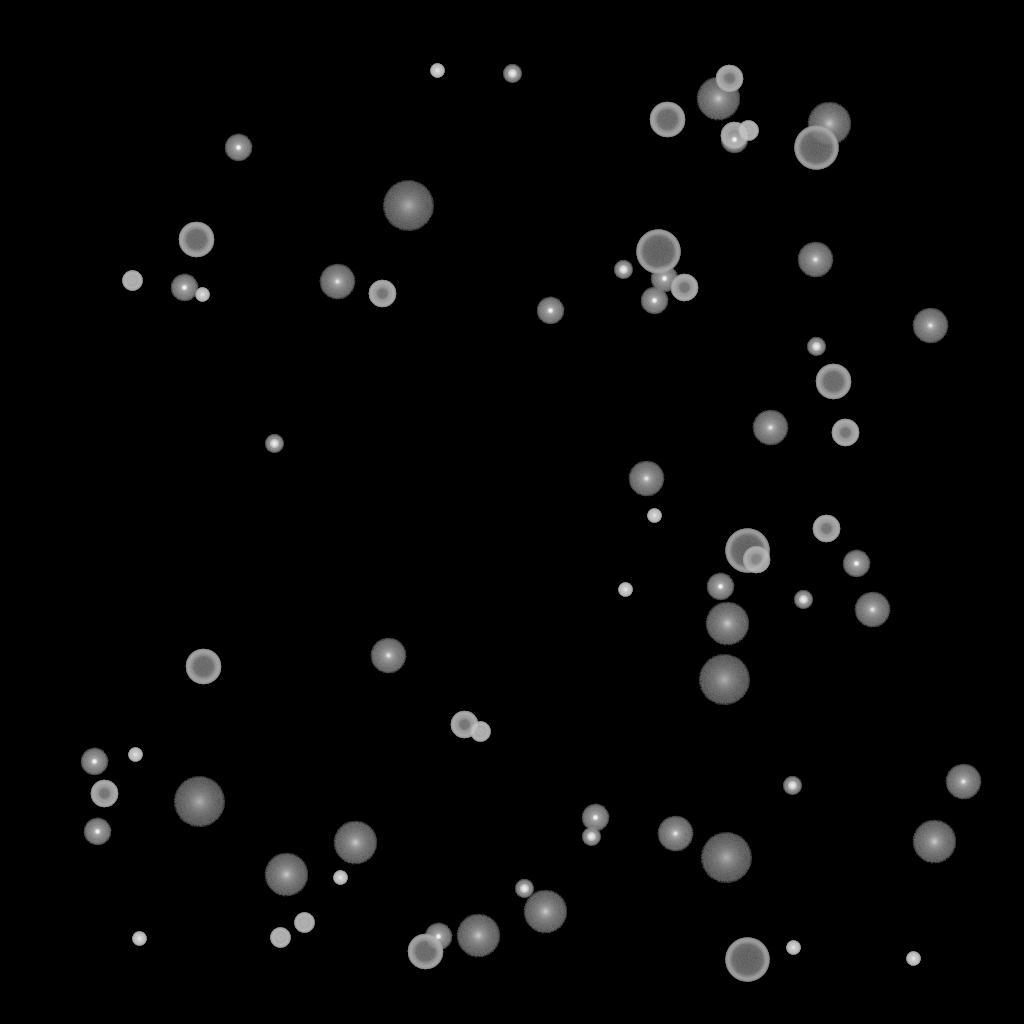depth:-10: (170, 274, 198, 302), (83, 818, 111, 846), (640, 287, 668, 315), (581, 804, 609, 832), (650, 265, 678, 293), (842, 550, 870, 578), (706, 573, 734, 601), (536, 297, 564, 325), (720, 126, 748, 154), (80, 748, 108, 776), (424, 923, 452, 951), (224, 134, 252, 162)
depth:-20: (614, 261, 632, 279), (515, 880, 533, 898), (783, 777, 801, 795), (265, 435, 283, 453), (582, 828, 600, 846), (794, 591, 812, 609), (503, 65, 521, 83), (807, 338, 825, 356)
depth:-30: (430, 64, 444, 78), (786, 941, 800, 955), (128, 748, 142, 762), (333, 871, 347, 885), (195, 288, 209, 302), (906, 952, 920, 966), (132, 932, 146, 946), (647, 509, 661, 523), (618, 583, 632, 597)
depth:-40: (470, 722, 490, 742), (294, 913, 314, 933), (738, 121, 758, 141), (122, 271, 142, 291), (270, 928, 290, 948)
depth:-50: (831, 419, 859, 447), (715, 65, 743, 93), (742, 546, 770, 574), (670, 274, 698, 302), (720, 122, 748, 150), (368, 280, 396, 308), (450, 711, 478, 739), (812, 515, 840, 543), (90, 780, 118, 808)
depth:-60: (407, 934, 443, 970), (185, 649, 221, 685), (815, 364, 851, 400), (649, 102, 685, 138), (178, 222, 214, 258)
depth:-70: (725, 529, 769, 573), (725, 938, 769, 982), (636, 230, 680, 274), (794, 126, 838, 170)
depth:0: (370, 638, 406, 674), (319, 264, 355, 300), (628, 461, 664, 497), (912, 308, 948, 344), (657, 816, 693, 852), (945, 764, 981, 800), (752, 410, 788, 446), (797, 242, 833, 278), (854, 592, 890, 628)
depth:10: (523, 890, 567, 934), (705, 602, 749, 646), (912, 820, 956, 864), (696, 77, 740, 121), (456, 914, 500, 958), (333, 821, 377, 865), (807, 102, 851, 146), (264, 853, 308, 897)
depth:20: (698, 655, 750, 705), (173, 777, 225, 827), (700, 833, 752, 883), (382, 181, 434, 231)
